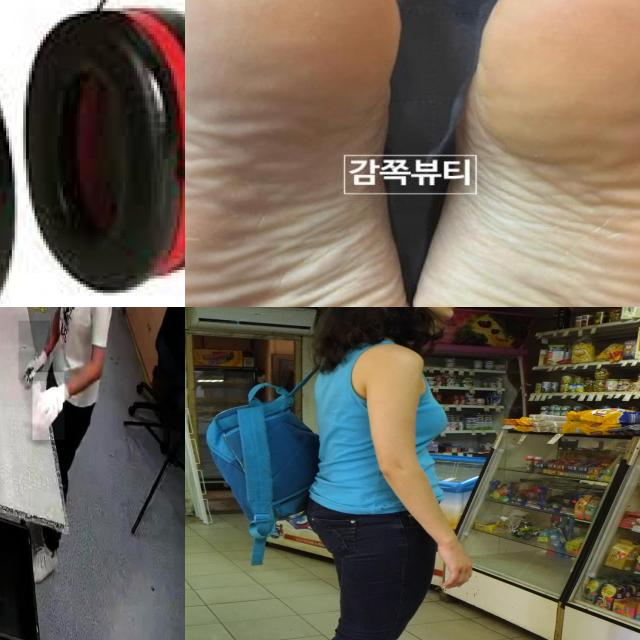Barefoots: (402, 0, 640, 307), (185, 0, 412, 307)
Ear-protection: (17, 0, 185, 293)
hand_glove: (33, 372, 65, 441), (18, 321, 50, 381)
person: (25, 307, 108, 583)
shoes: (23, 539, 59, 587)
